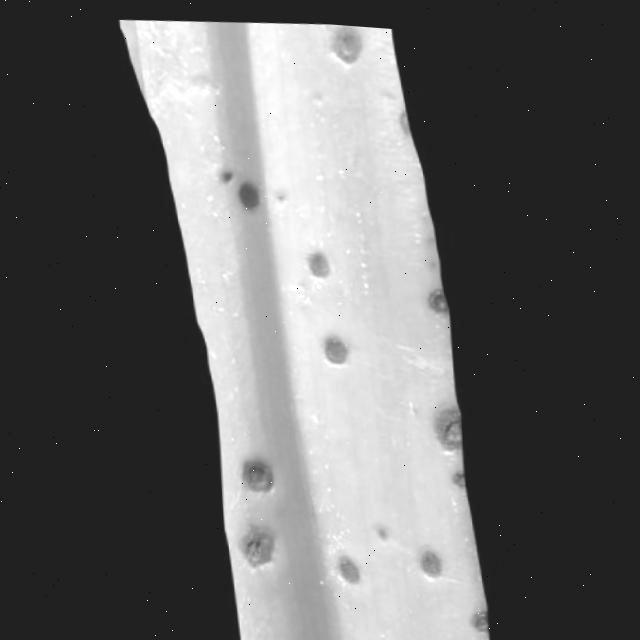mite: (282, 18, 480, 640), (230, 450, 280, 566), (429, 399, 462, 442), (331, 549, 359, 578), (415, 541, 442, 570), (423, 280, 449, 306), (466, 600, 488, 624), (216, 163, 234, 180)
spots: (105, 17, 498, 640)
